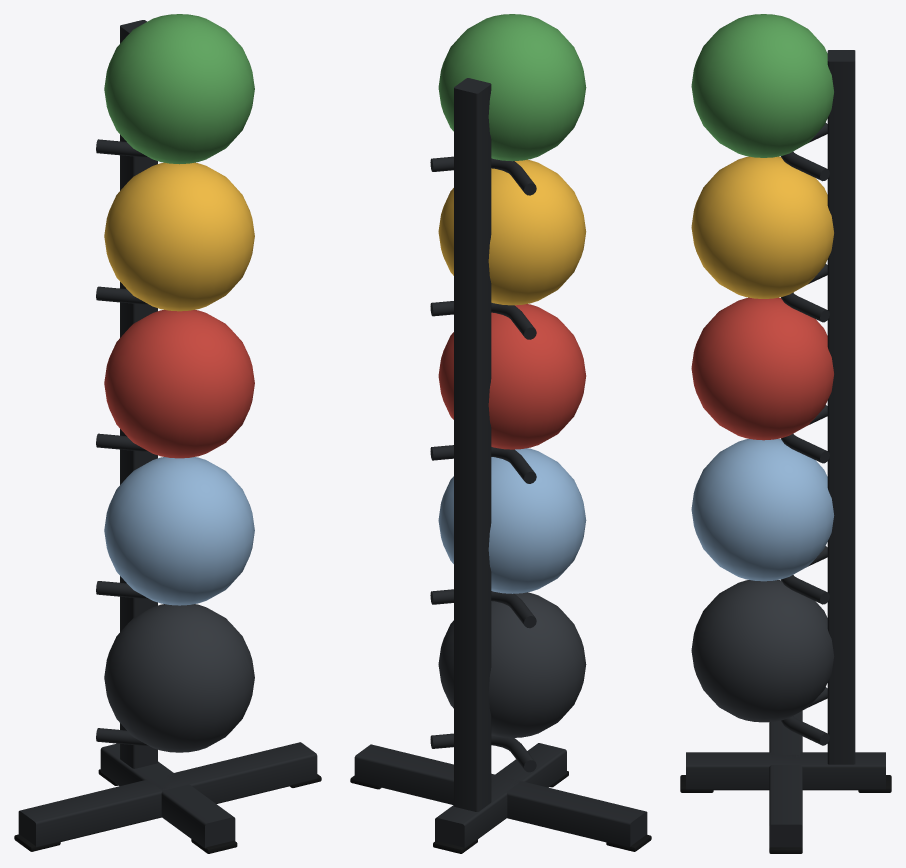
Rendered from medball.glb.
The picture shows the model from 3 angles, left to right: view 1: azimuth 30°, elevation 25°; view 2: azimuth 150°, elevation 25°; view 3: azimuth 270°, elevation 25°; orthographic projection. The views are drawn at different scales.
Parts seen in each view (by area): view 1: medball; view 2: medball; view 3: medball.
Boxes of the visible parts, box(x1,y1,x2,y2) form: medball: box(14, 14, 321, 853); medball: box(350, 14, 651, 853); medball: box(680, 14, 891, 853).
Size of the model in its own units: 0.58 by 1.52 by 0.38.
